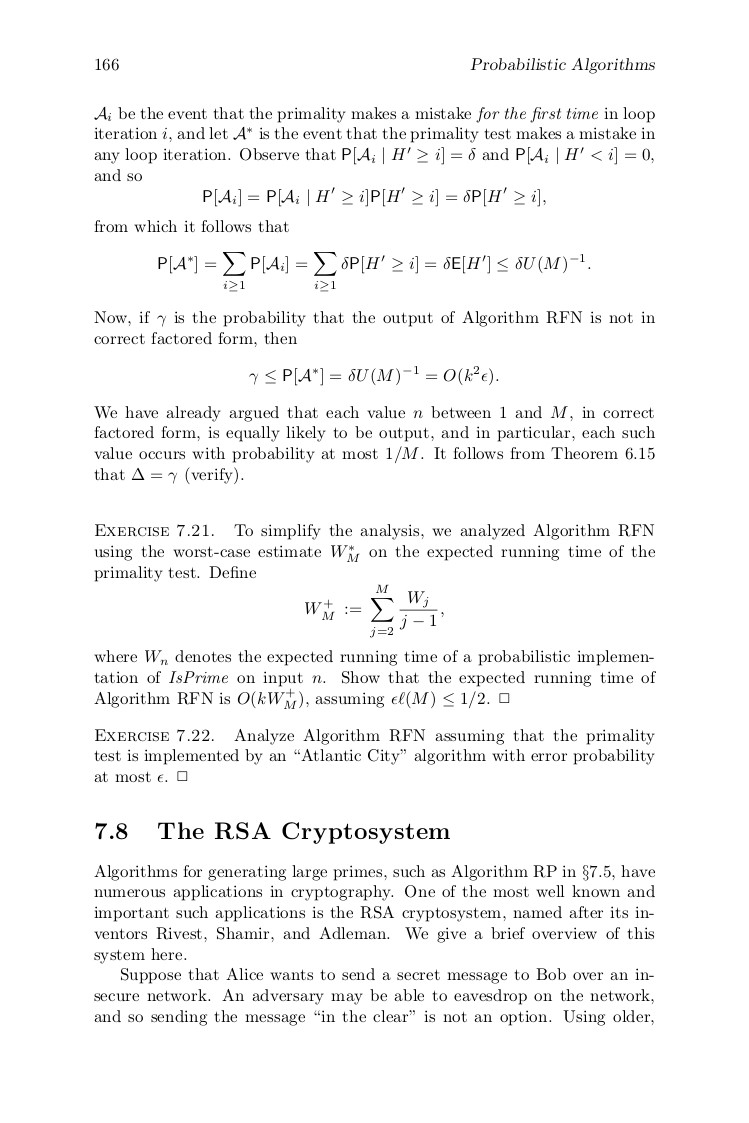formula: (158, 252, 590, 291), (305, 584, 443, 637), (203, 186, 545, 207), (249, 365, 498, 386)
